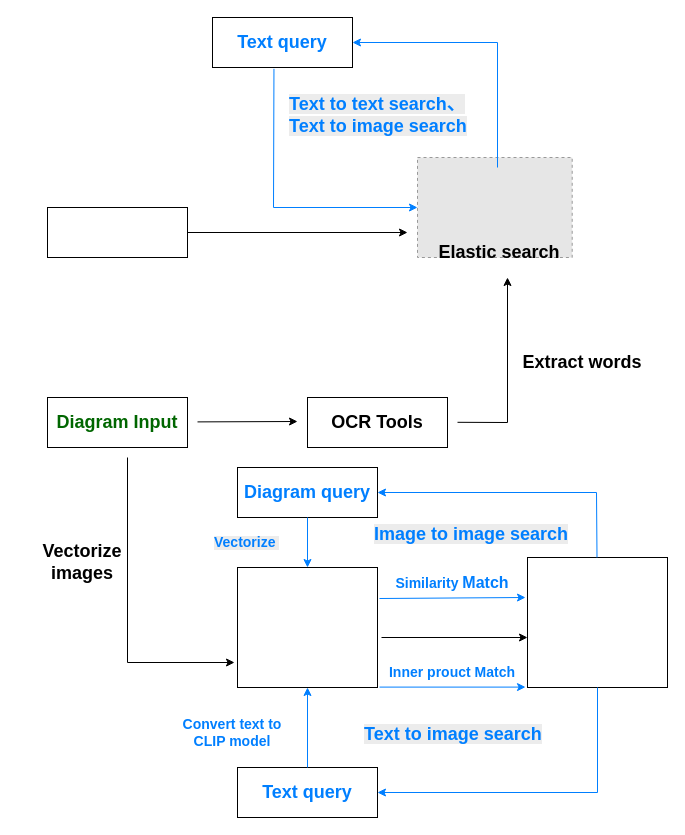
This 685x835 diagram has some shape labels left out. Grey dashed boxes stand in for pictures. Here are the shapes that lost their labels. From the top down, the centre of each, then its label:
[117,232]: Text Input
[307,627]: CLIP model
[597,622]: Vector DB
